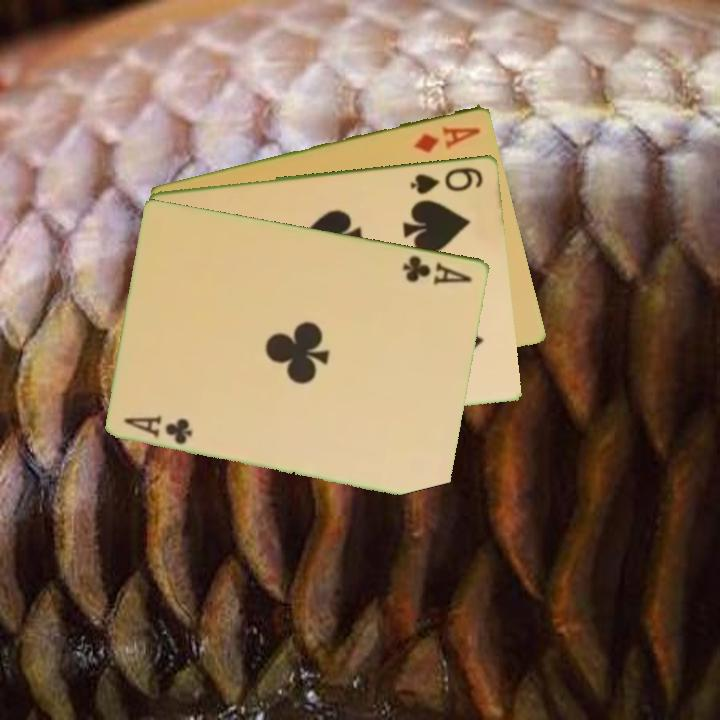6s: (407, 163, 486, 197)
Ac: (400, 251, 476, 287), (121, 412, 196, 447)
Ad: (410, 122, 484, 155)
